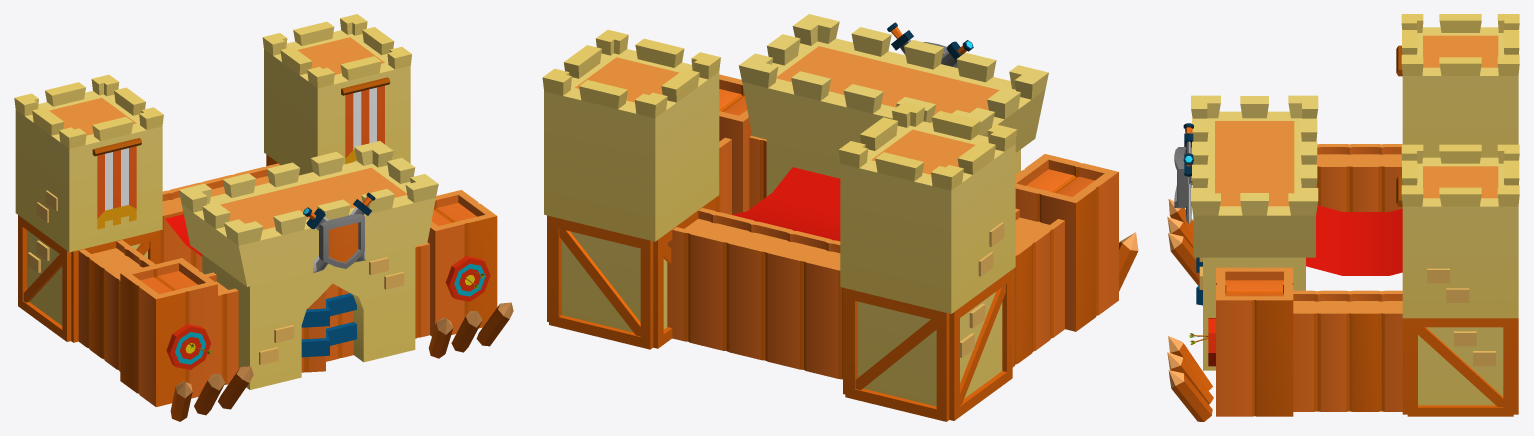
File: Structure_Barrack_lvl01.fbx
3 views of the same model, side by side, from view 1: azimuth 30°, elevation 25°; view 2: azimuth 150°, elevation 25°; view 3: azimuth 270°, elevation 25° (orthographic). The views are drawn at different scales.
Parts seen in each view (by area): view 1: Structure_Barrack_lvl01; view 2: Structure_Barrack_lvl01; view 3: Structure_Barrack_lvl01.
Part boxes in pixels (<box>): Structure_Barrack_lvl01: <box>14,14,513,421</box>; Structure_Barrack_lvl01: <box>542,14,1138,421</box>; Structure_Barrack_lvl01: <box>1167,14,1519,421</box>.
Size of the model in its own units: 1671 by 1012 by 1368.
